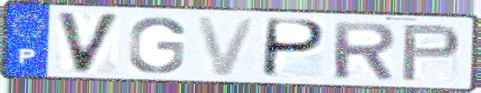G: (125, 15, 188, 75)
P: (259, 17, 329, 80), (398, 23, 464, 83)
R: (329, 19, 399, 81)
V: (53, 10, 124, 76), (193, 15, 261, 78)
